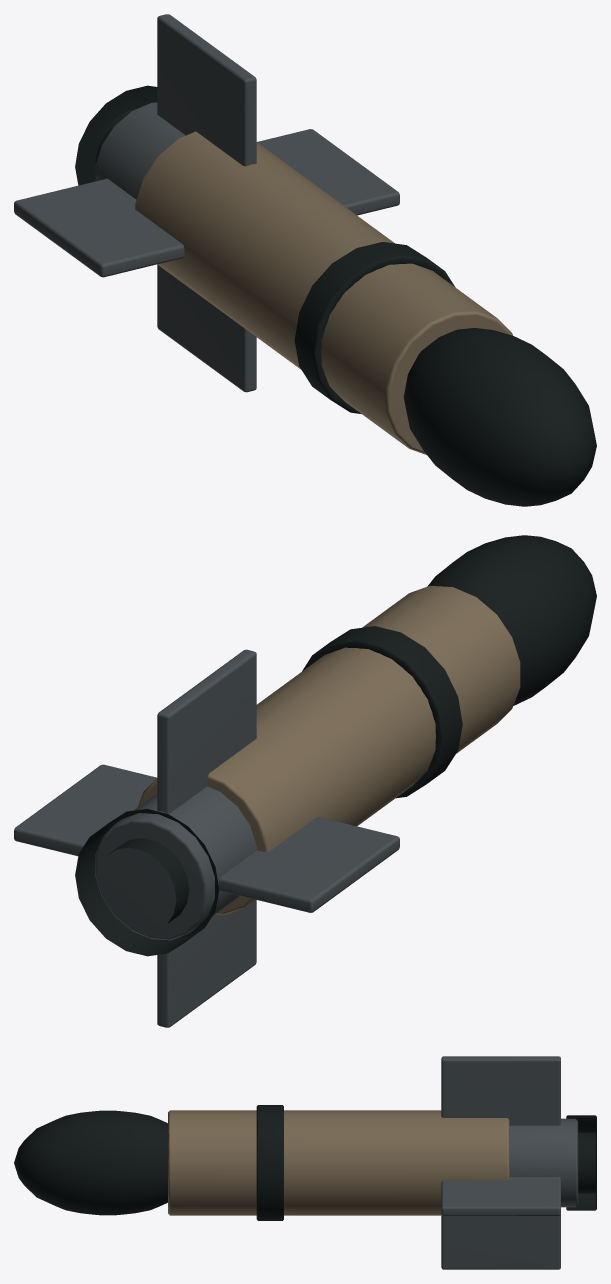
Rendered from m3_rocket.glb.
3 views of the same model, one above another, from view 1: azimuth 30°, elevation 25°; view 2: azimuth 150°, elevation 25°; view 3: azimuth 270°, elevation 25° (orthographic). The views are drawn at different scales.
Visible parts, largest first — view 1: m3_rocket_nc7_coating, m3_rocket_nc7_alloy, m3_rocket_nc7_dark; view 2: m3_rocket_nc7_alloy, m3_rocket_nc7_coating, m3_rocket_nc7_dark; view 3: m3_rocket_nc7_coating, m3_rocket_nc7_alloy, m3_rocket_nc7_dark.
Part boxes in pixels (bbox=[...]): m3_rocket_nc7_coating: bbox=[135, 131, 512, 454]; m3_rocket_nc7_alloy: bbox=[14, 14, 399, 392]; m3_rocket_nc7_dark: bbox=[75, 85, 596, 506]; m3_rocket_nc7_alloy: bbox=[14, 649, 399, 1027]; m3_rocket_nc7_coating: bbox=[137, 585, 520, 914]; m3_rocket_nc7_dark: bbox=[75, 535, 596, 956]; m3_rocket_nc7_coating: bbox=[168, 1110, 509, 1215]; m3_rocket_nc7_alloy: bbox=[441, 1056, 578, 1269]; m3_rocket_nc7_dark: bbox=[14, 1105, 596, 1220].
Size of the model in its own units: 0.136 by 0.136 by 0.341.
